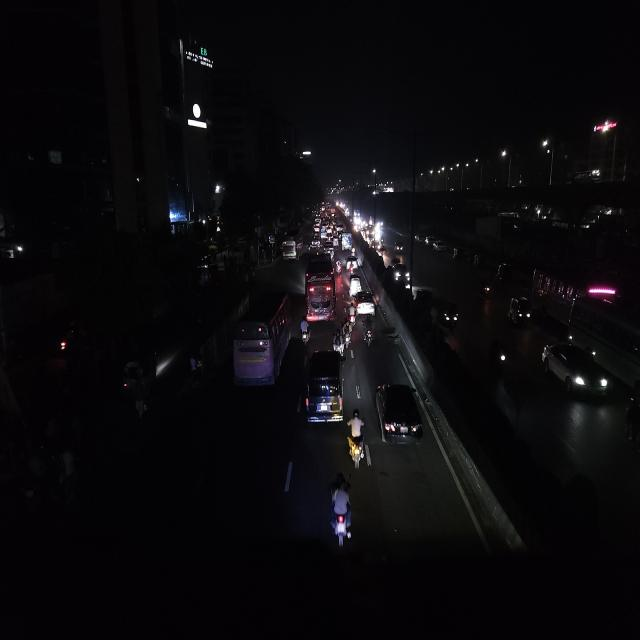bus: (230, 286, 294, 398), (569, 294, 640, 392), (531, 265, 619, 320), (302, 253, 338, 325), (280, 234, 300, 261)
car: (539, 339, 612, 404), (303, 345, 347, 429), (375, 378, 425, 450), (351, 288, 376, 317), (390, 259, 410, 289), (348, 270, 362, 296), (346, 254, 360, 272), (433, 239, 446, 255)
cng: (507, 293, 533, 328), (441, 295, 460, 331), (394, 238, 406, 255)
motorcycle: (324, 471, 356, 556), (343, 407, 369, 468), (489, 331, 509, 377), (332, 324, 346, 357), (362, 314, 374, 352), (479, 279, 494, 302), (299, 316, 310, 346), (334, 256, 342, 274)
truck: (341, 231, 351, 250)
